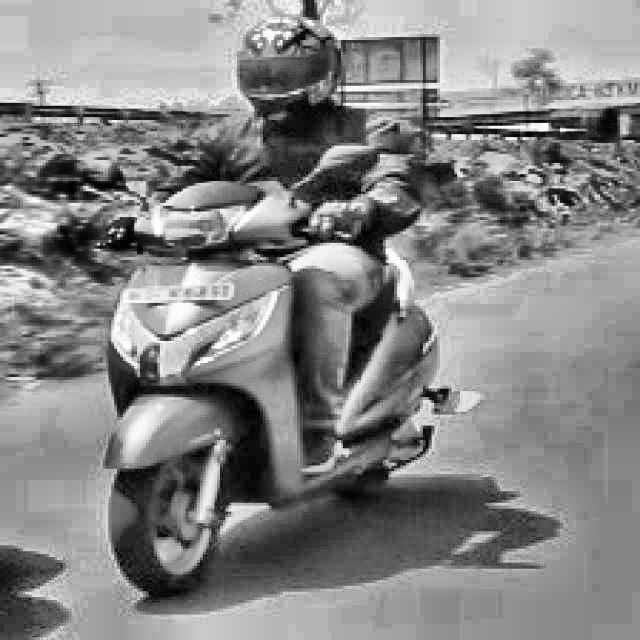motorcycle: (63, 132, 514, 597)
